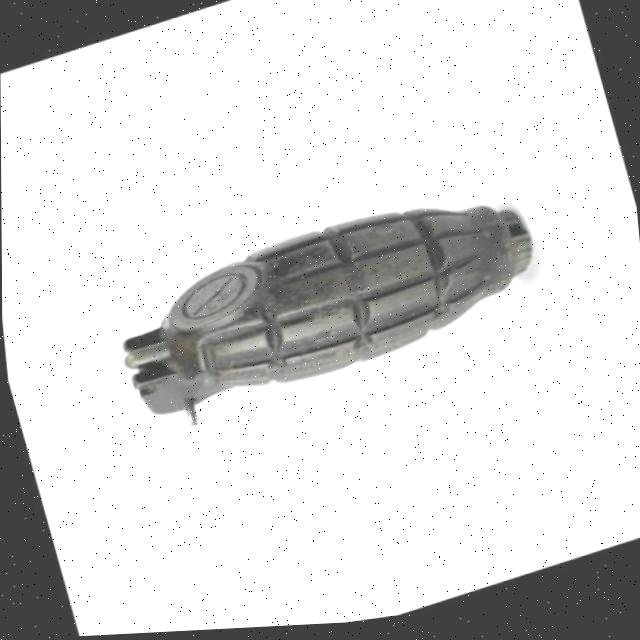grenade: (85, 158, 557, 448)
